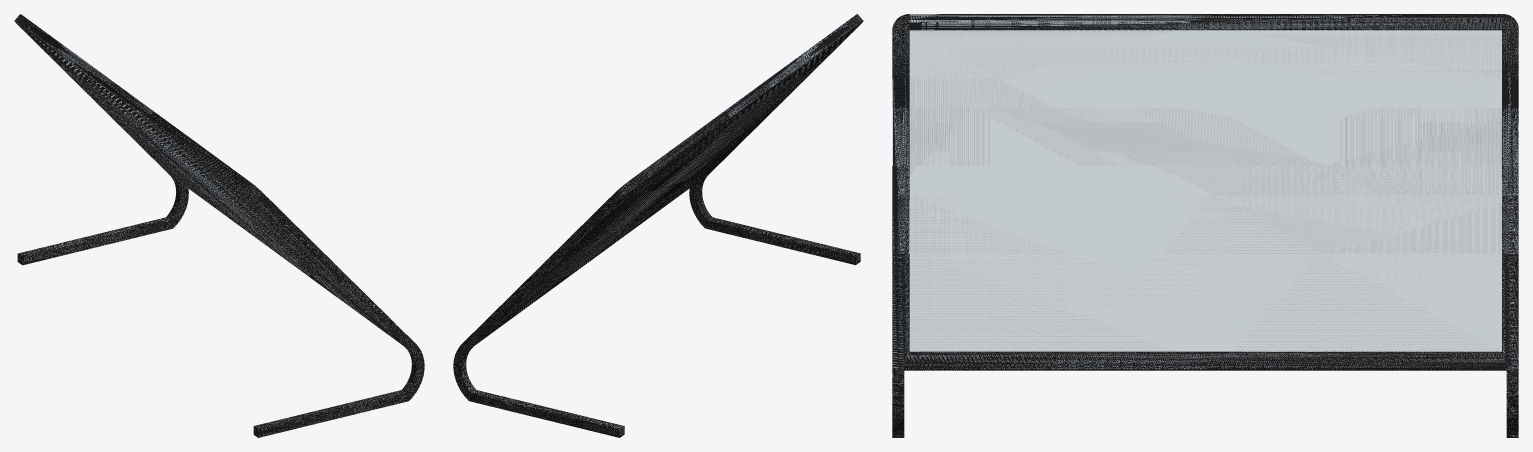
File: LCD_LOD.fbx
3 views of the same model, side by side, from view 1: azimuth 30°, elevation 25°; view 2: azimuth 150°, elevation 25°; view 3: azimuth 270°, elevation 25° (orthographic). The views are drawn at different scales.
Visible parts, largest first — view 1: LCD_LOD0; view 2: LCD_LOD0; view 3: LCD_LOD0.
Boxes of the visible parts, x1=… form: LCD_LOD0: x1=14, y1=14, x2=424, y2=437; LCD_LOD0: x1=453, y1=14, x2=863, y2=437; LCD_LOD0: x1=892, y1=14, x2=1518, y2=437.
Size of what is drawn, in the model's own units: 193 by 267 by 463.
